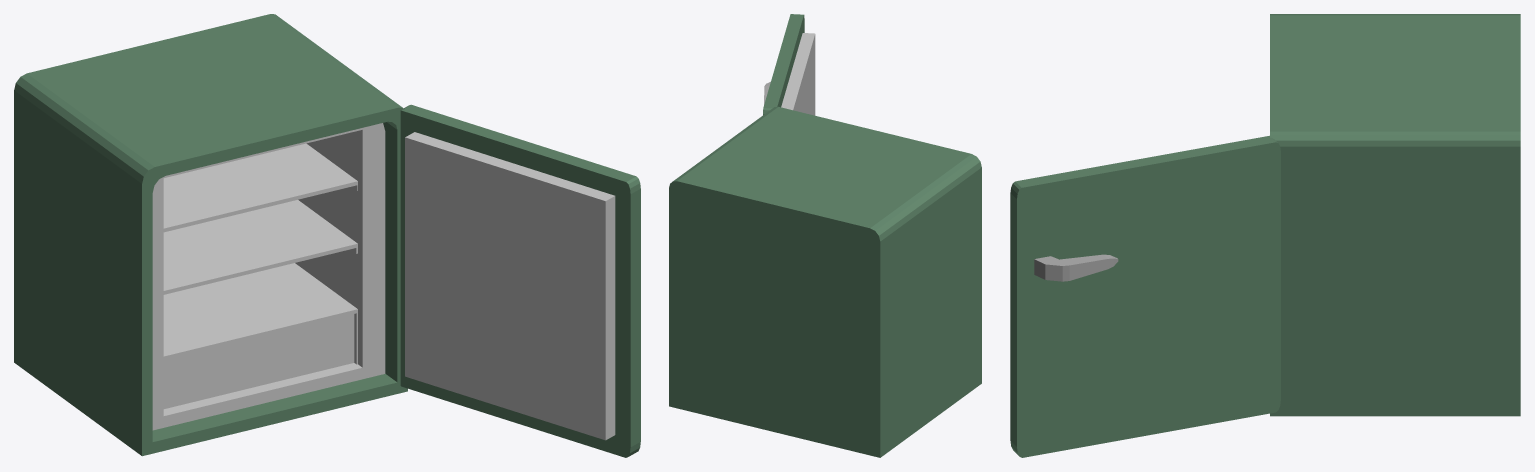
File: SM_Frigo.fbx
3 views of the same model, side by side, from view 1: azimuth 30°, elevation 25°; view 2: azimuth 150°, elevation 25°; view 3: azimuth 270°, elevation 25° (orthographic). The views are drawn at different scales.
Parts seen in each view (by area): view 1: frigo, Cube.001, plaques, int_frigo, porte; view 2: frigo, Cube.001, porte; view 3: frigo, porte, poignee.
Part boxes in pixels (x1=…): frigo: x1=14, y1=14, x2=407, y2=456; Cube.001: x1=405, y1=132, x2=615, y2=440; plaques: x1=163, y1=143, x2=357, y2=408; int_frigo: x1=152, y1=123, x2=385, y2=430; porte: x1=400, y1=104, x2=640, y2=457; frigo: x1=669, y1=106, x2=981, y2=457; Cube.001: x1=781, y1=33, x2=815, y2=115; porte: x1=763, y1=14, x2=804, y2=114; frigo: x1=1270, y1=14, x2=1520, y2=416; porte: x1=1010, y1=135, x2=1280, y2=457; poignee: x1=1034, y1=254, x2=1118, y2=281.
Bounding box in the file's own units: 102 × 74 × 122.
